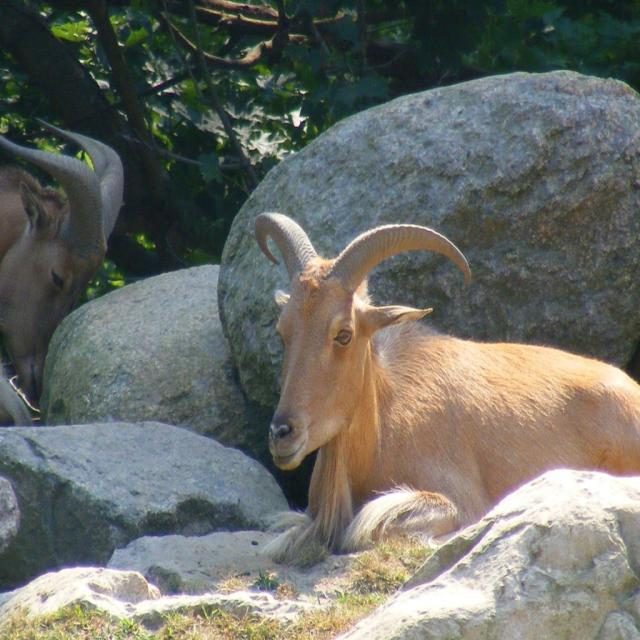Goat: (253, 209, 639, 567), (0, 114, 124, 421)
